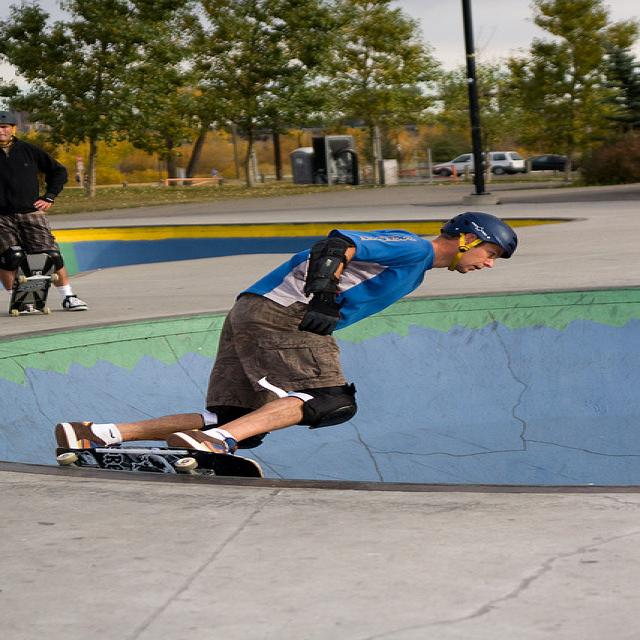Vehicle: (433, 152, 525, 175), (522, 154, 578, 173)
